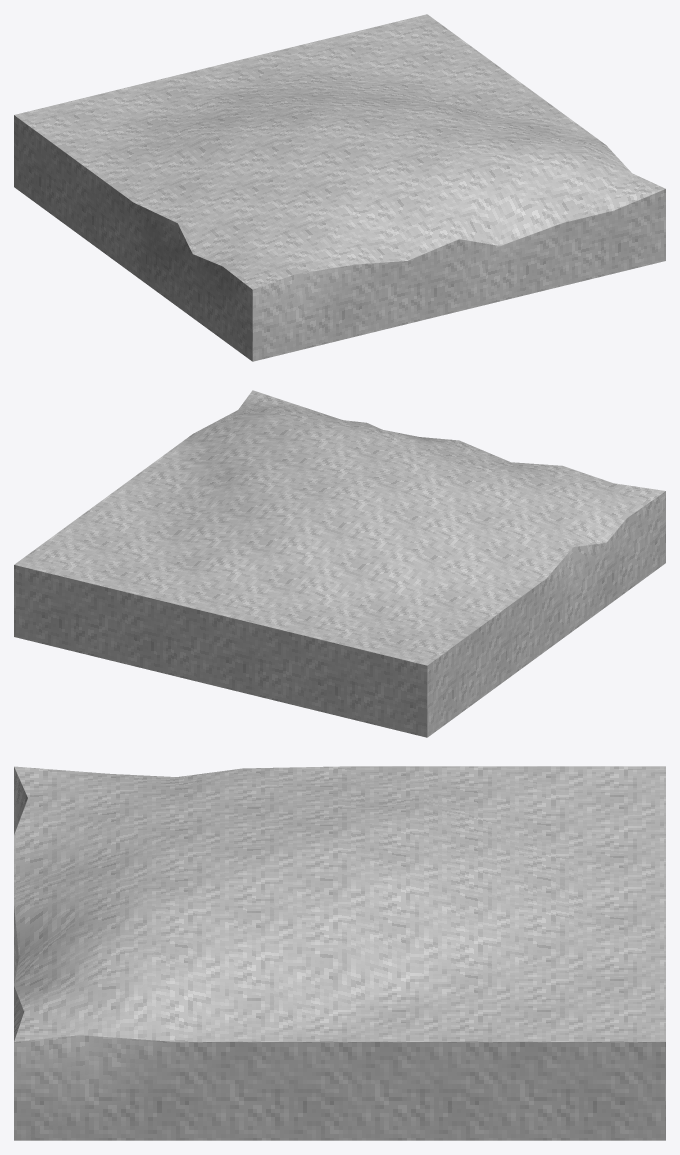
Rendered from Hill.glb.
3 views of the same model, one above another, from view 1: azimuth 30°, elevation 25°; view 2: azimuth 150°, elevation 25°; view 3: azimuth 270°, elevation 25° (orthographic). The views are drawn at different scales.
Visible parts, largest first — view 1: Cube; view 2: Cube; view 3: Cube.
Boxes of the visible parts, x1,y1,x2,y2 form: Cube: (14, 14, 665, 361); Cube: (14, 390, 665, 737); Cube: (14, 766, 665, 1140).
Bounding box in the file's own units: 12.01 × 2.87 × 12.
Materials: 1 (1 with a texture image).
